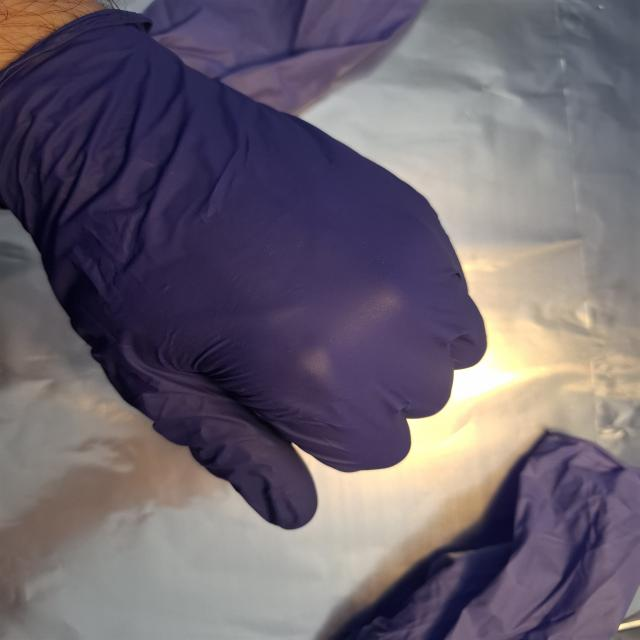glove_on: (0, 0, 490, 532)
